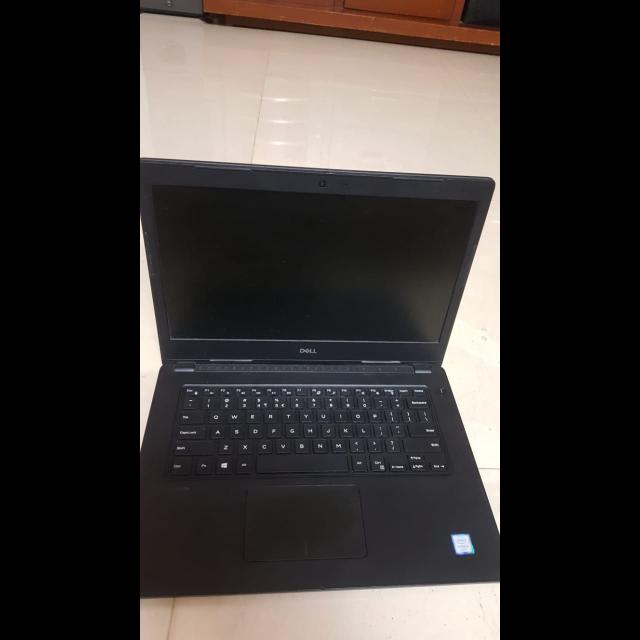Laptop: (142, 153, 500, 602)
